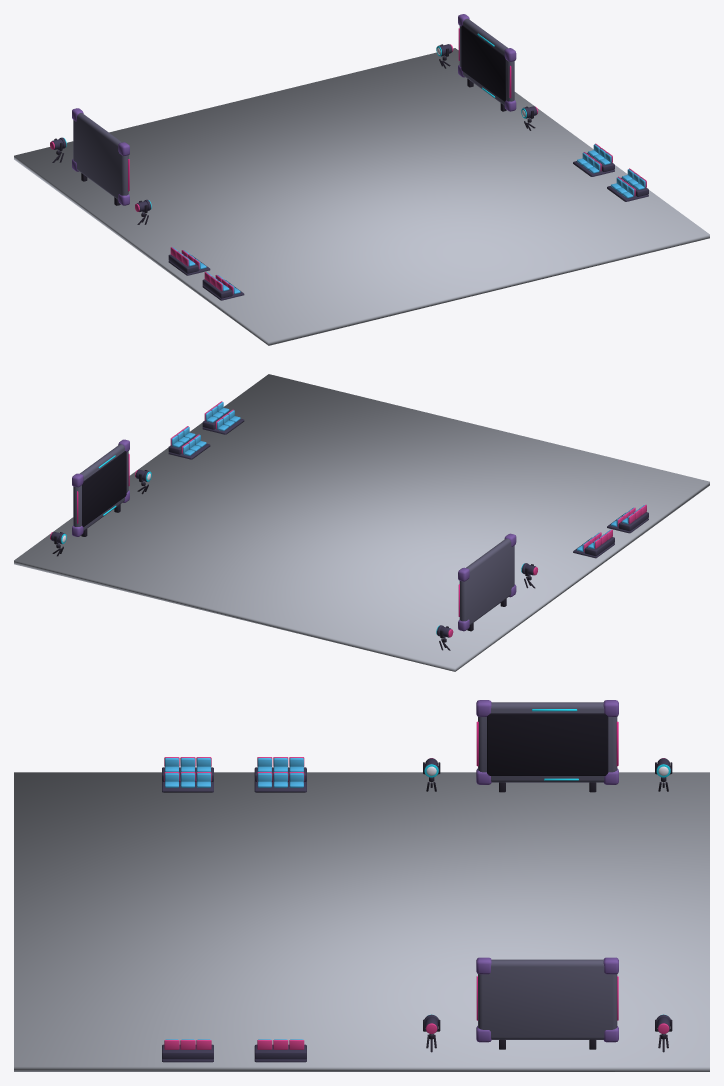
The model's file is Ascensão.fbx.
3 views of the same model, one above another, from view 1: azimuth 30°, elevation 25°; view 2: azimuth 150°, elevation 25°; view 3: azimuth 270°, elevation 25° (orthographic). The views are drawn at different scales.
Visible parts, largest first — view 1: Root, Metal, Cone, Body, Seat, Purple, Pink, Dark; view 2: Root, Metal, Cone, Body, Seat, Purple, Pink, Dark; view 3: Root, Metal, Cone, Body, Seat, Purple, Pink, Dark.
Boxes of the visible parts, x1,y1,x2,y2 form: Root: [14, 48, 709, 345]; Metal: [57, 18, 530, 213]; Cone: [461, 25, 505, 101]; Body: [51, 44, 648, 300]; Seat: [172, 144, 645, 294]; Purple: [72, 14, 516, 205]; Pink: [50, 44, 646, 293]; Dark: [52, 44, 624, 224]; Root: [14, 374, 709, 671]; Metal: [57, 444, 530, 639]; Cone: [82, 451, 126, 526]; Body: [51, 410, 648, 637]; Seat: [171, 402, 644, 551]; Purple: [72, 439, 516, 631]; Pink: [50, 401, 646, 637]; Dark: [52, 421, 535, 650]; Root: [14, 772, 709, 1071]; Metal: [430, 702, 664, 1039]; Cone: [487, 713, 608, 775]; Body: [162, 758, 671, 1062]; Seat: [165, 758, 303, 1039]; Purple: [476, 700, 618, 1042]; Pink: [164, 757, 669, 1049]; Dark: [163, 762, 672, 1052].
Size of the model in its own units: 120 by 18.04 by 120.
